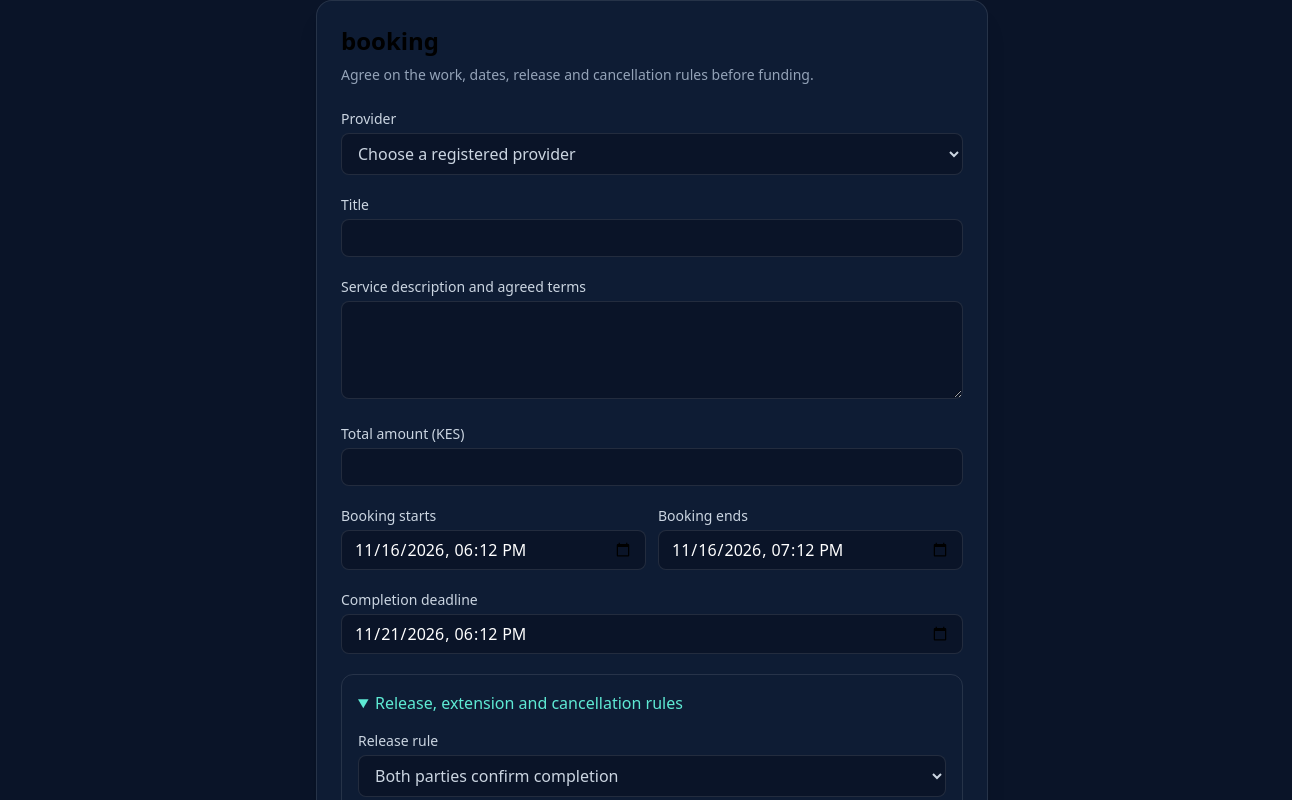
Test: booking form submits explicit cancellation policy and ISO booking dates
Select "Provider · provider@example.com" in the dropdown labelled "Provider": (652, 154) [341,133,963,175]
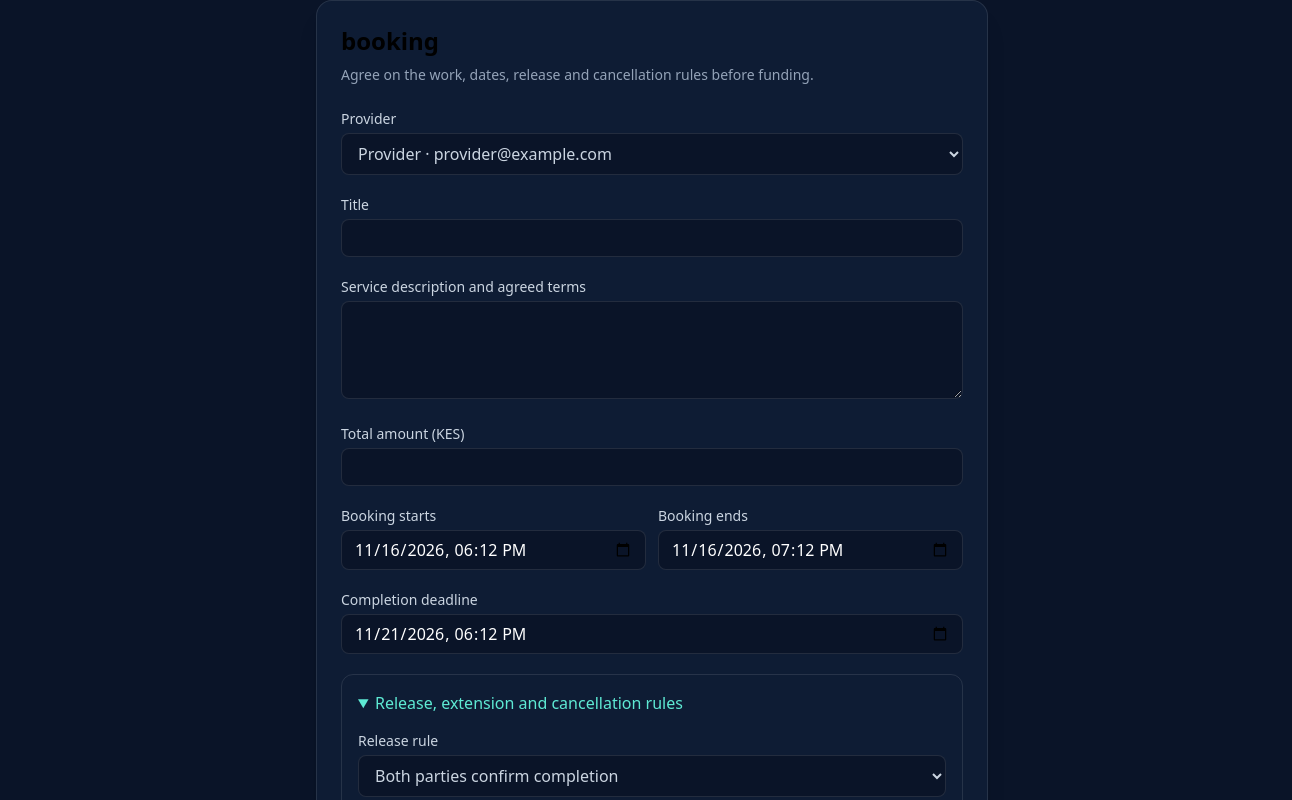
In the field labelled "Title": (652, 238) [341,219,963,257], type "Hotel reservation"
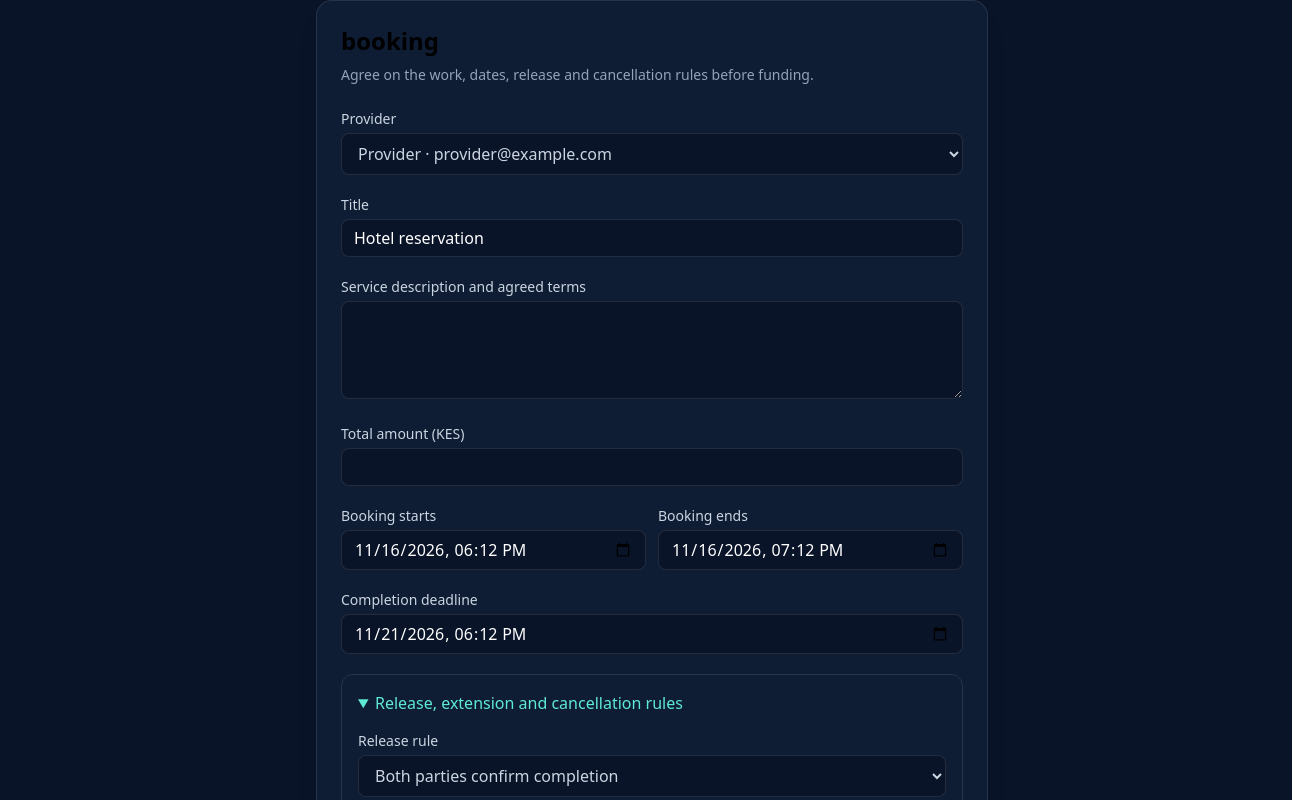
In the text box labelled "Service description and agreed terms": (652, 350) [341,301,963,399], type "Reserve accommodation with the selected provider."
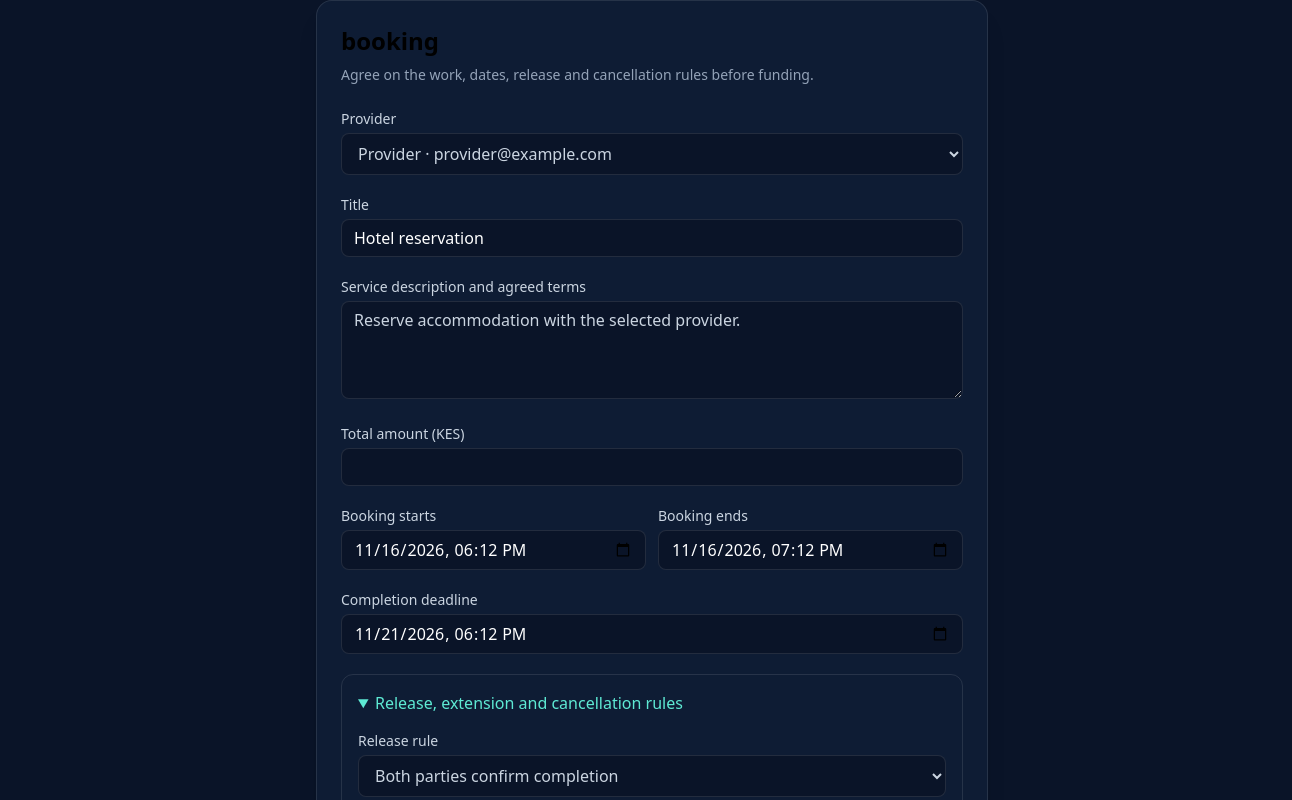
In the number field labelled "Total amount (KES)": (652, 467) [341,448,963,486], type "100"
(page scrolled)
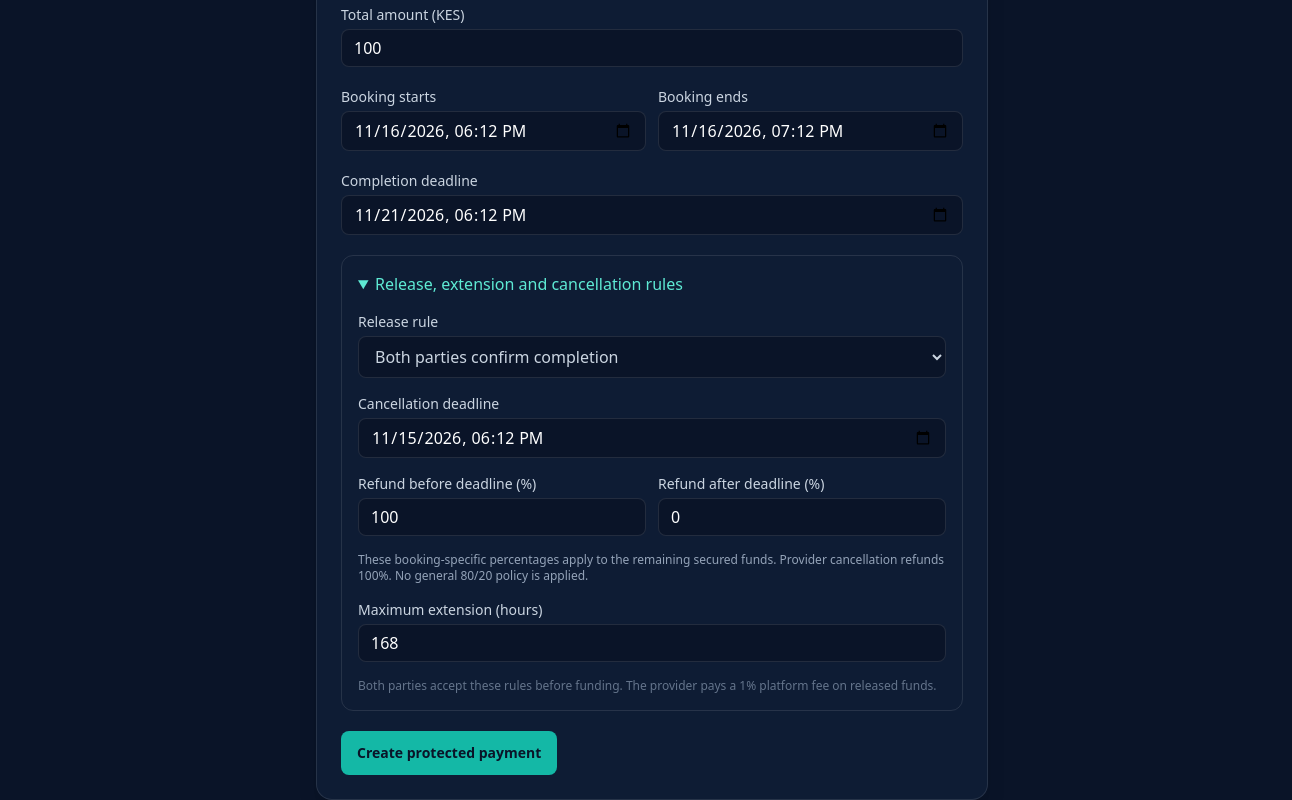
Replace the text in the number field labelled "Refund after deadline (%)" with "35": (802, 517) [658,498,946,536]
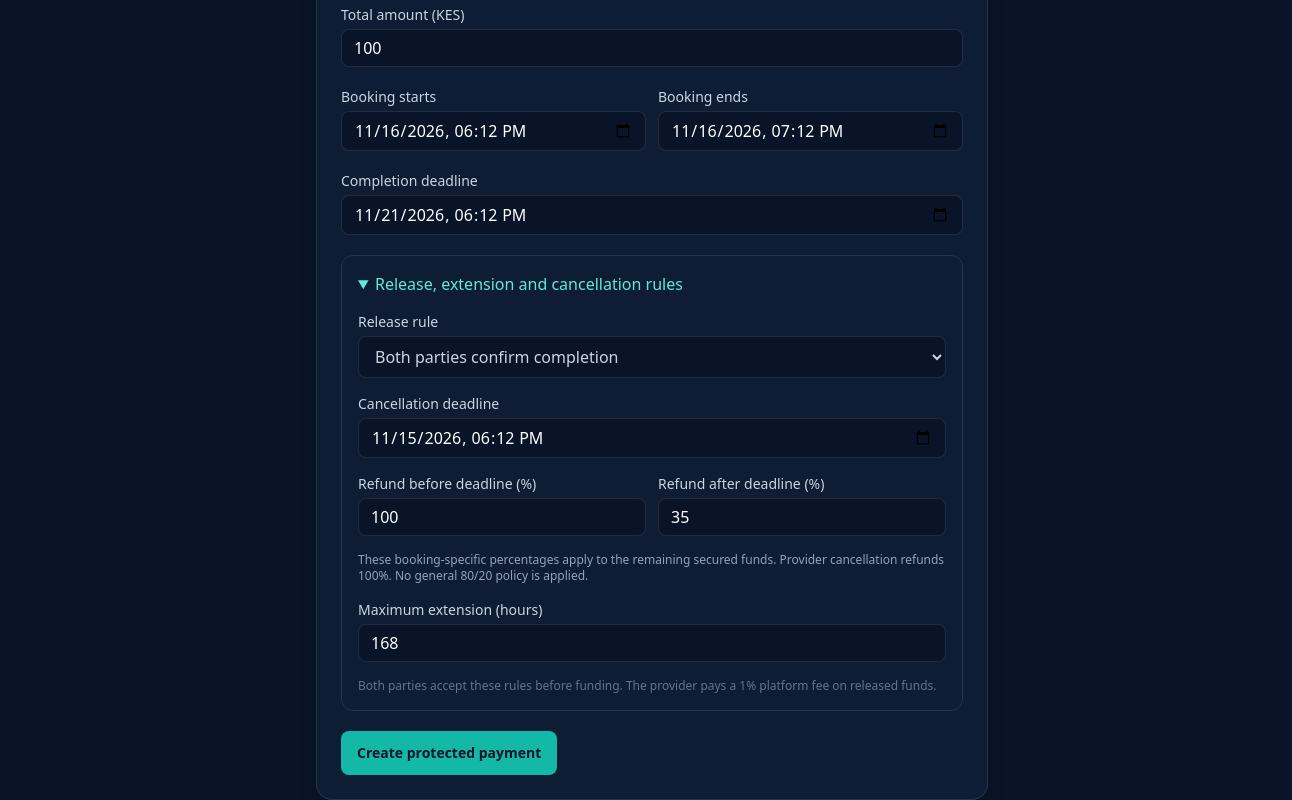
Click the button "Create protected payment": (449, 753) [341,731,557,775]
(page scrolled)
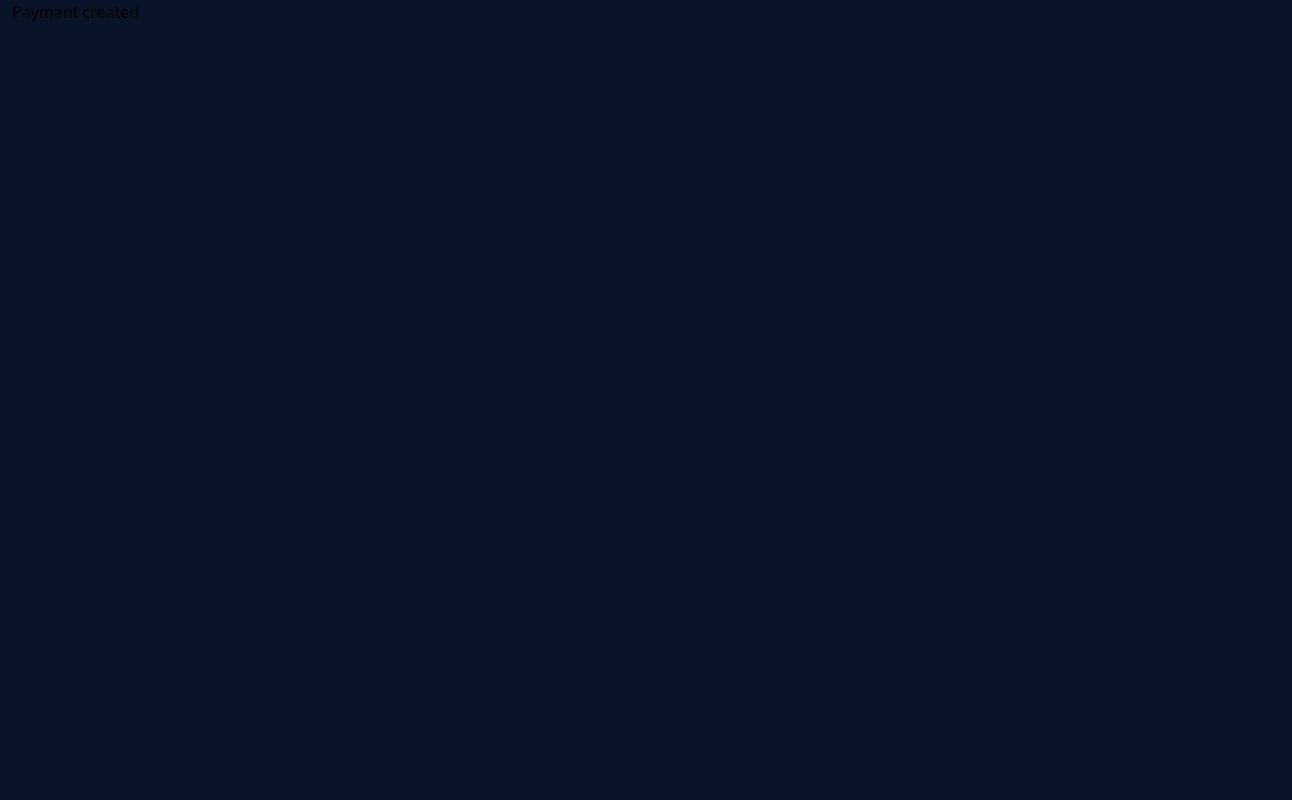
Check: the text "Payment created" is shown, box [12,1,139,23]
